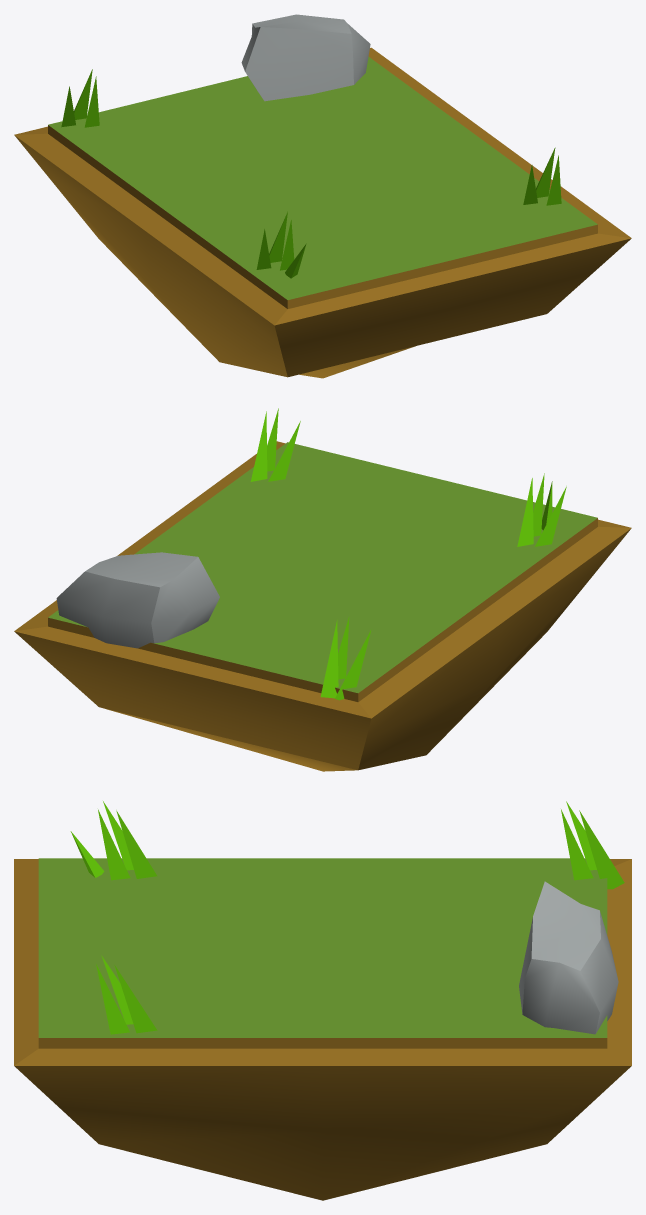
The model's file is PLATFORM2.fbx.
3 renders of one model, top to bottom at view 1: azimuth 30°, elevation 25°; view 2: azimuth 150°, elevation 25°; view 3: azimuth 270°, elevation 25°, orthographic. The views are drawn at different scales.
Visible parts, largest first — view 1: Platform2; view 2: Platform2; view 3: Platform2.
Boxes of the visible parts, x1,y1,x2,y2 form: Platform2: (14,14,631,378); Platform2: (14,408,631,771); Platform2: (14,801,631,1200).
Size of the model in its own units: 4.16 by 3.06 by 5.25.
